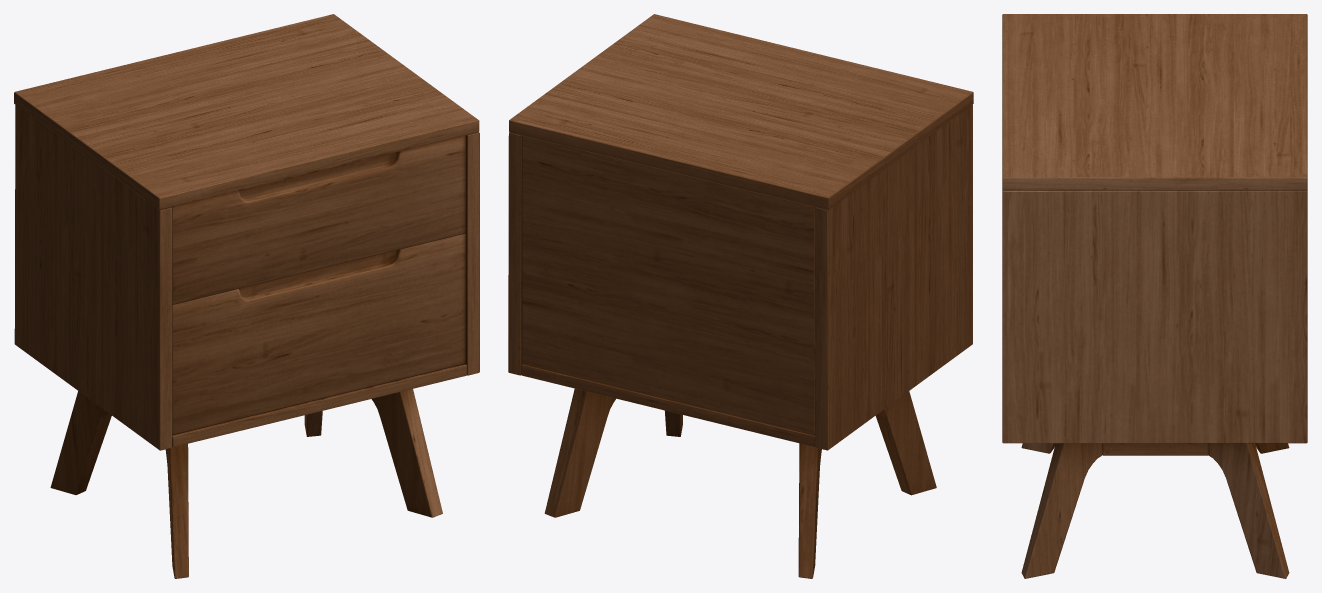
Rendered from Jenson Bedside.FBX.
3 renders of one model, left to right at view 1: azimuth 30°, elevation 25°; view 2: azimuth 150°, elevation 25°; view 3: azimuth 270°, elevation 25°, orthographic. The views are drawn at different scales.
Parts seen in each view (by area): view 1: Jeson Bedside; view 2: Jeson Bedside; view 3: Jeson Bedside.
Part boxes in pixels (<box>): Jeson Bedside: <box>14,14,479,578</box>; Jeson Bedside: <box>508,14,973,578</box>; Jeson Bedside: <box>1002,14,1307,578</box>.
Size of the model in its own units: 20.08 by 23.62 by 15.75.
